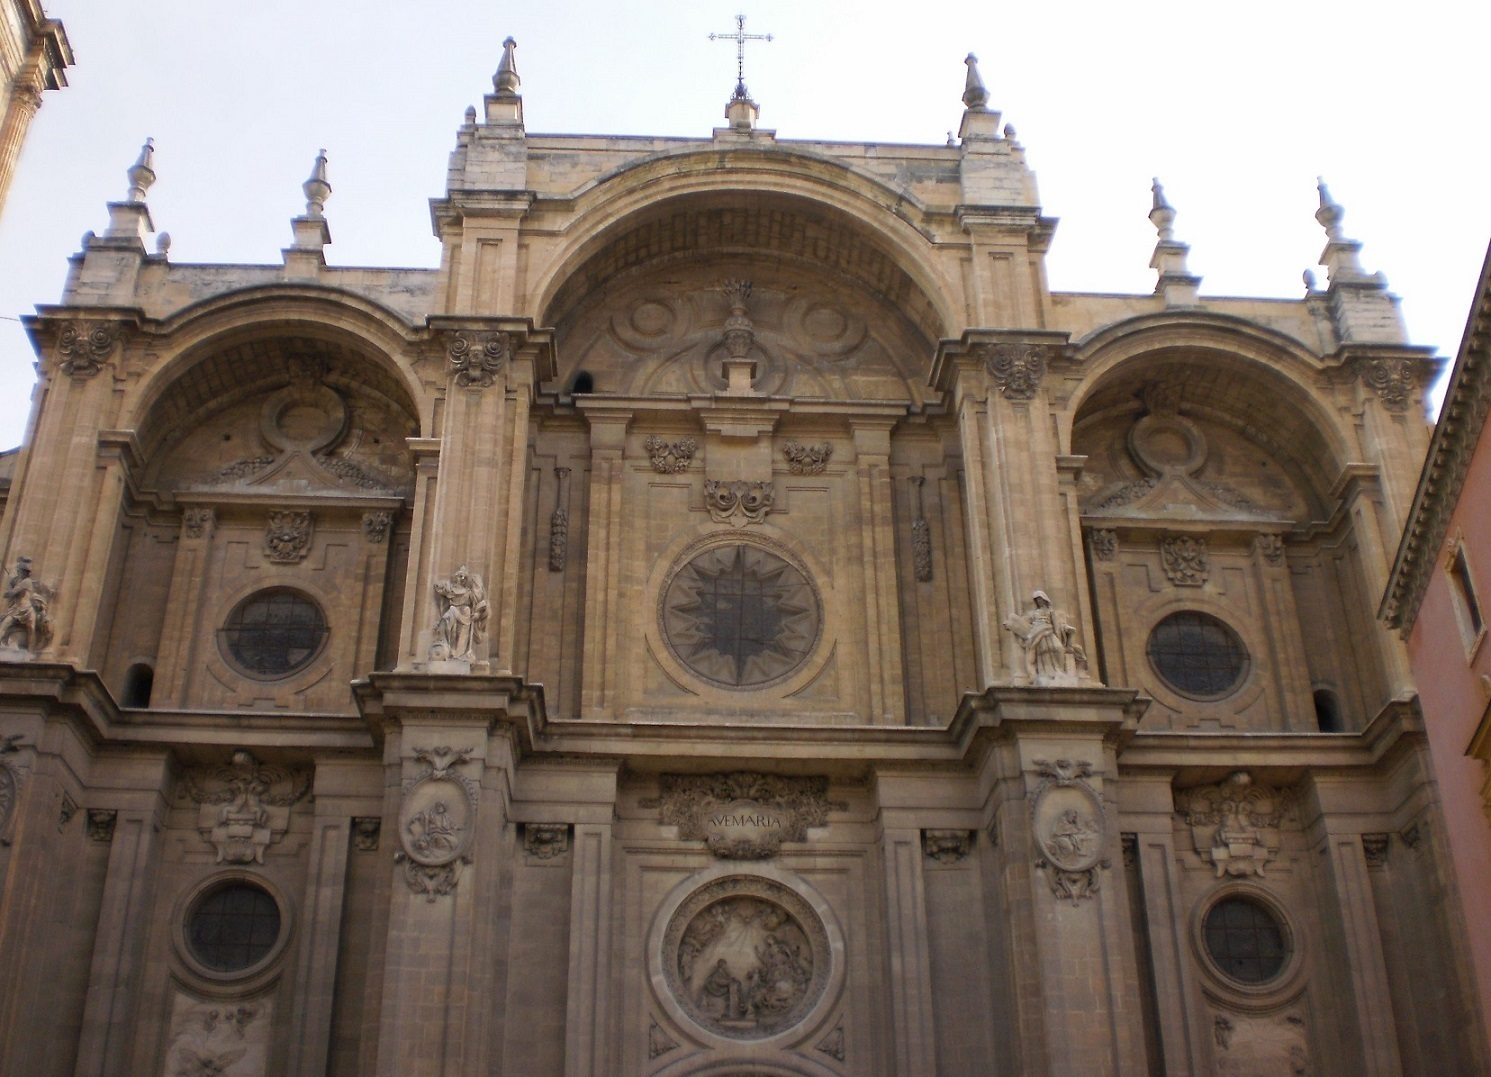arco-medio-punto: (516, 179, 982, 416), (88, 299, 436, 479), (1057, 335, 1380, 507)
ojo-de-buey: (166, 865, 294, 990), (1130, 596, 1261, 708), (1185, 875, 1305, 994), (213, 577, 336, 680)
